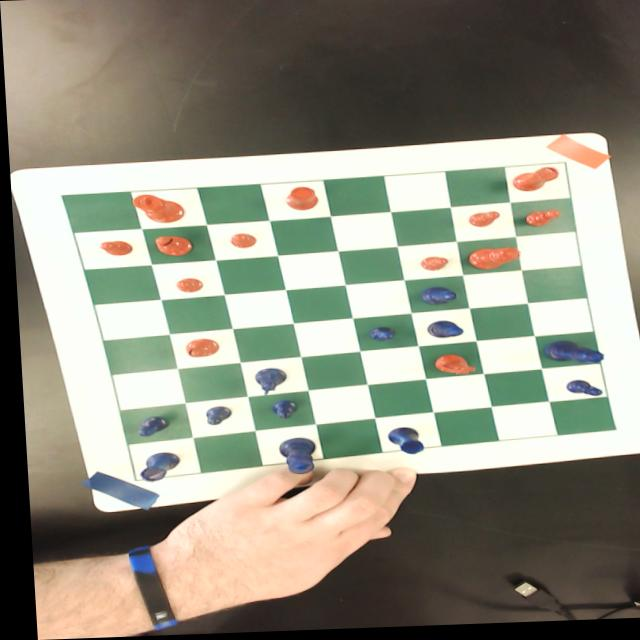B: (415, 289, 454, 308), (422, 322, 460, 341)
K: (272, 439, 311, 476)
N: (250, 368, 285, 397)
P: (128, 416, 166, 437), (562, 383, 598, 401), (199, 406, 228, 427), (265, 401, 294, 421), (364, 328, 393, 343)
Q: (540, 343, 601, 368)
R: (133, 452, 177, 483), (382, 429, 421, 458)
b: (151, 235, 190, 257), (177, 339, 216, 358)
cb: (60, 166, 610, 480)
k: (128, 193, 184, 224)
n: (429, 356, 472, 378)
p: (521, 213, 558, 231), (96, 240, 131, 257), (465, 214, 498, 231), (227, 234, 255, 249), (417, 259, 445, 274), (172, 279, 201, 293)
q: (464, 249, 518, 273)
r: (509, 170, 558, 195), (281, 187, 317, 212)
